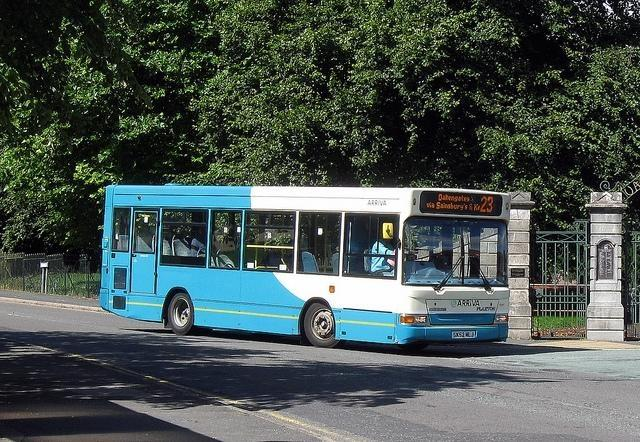bus: (100, 185, 510, 350)
